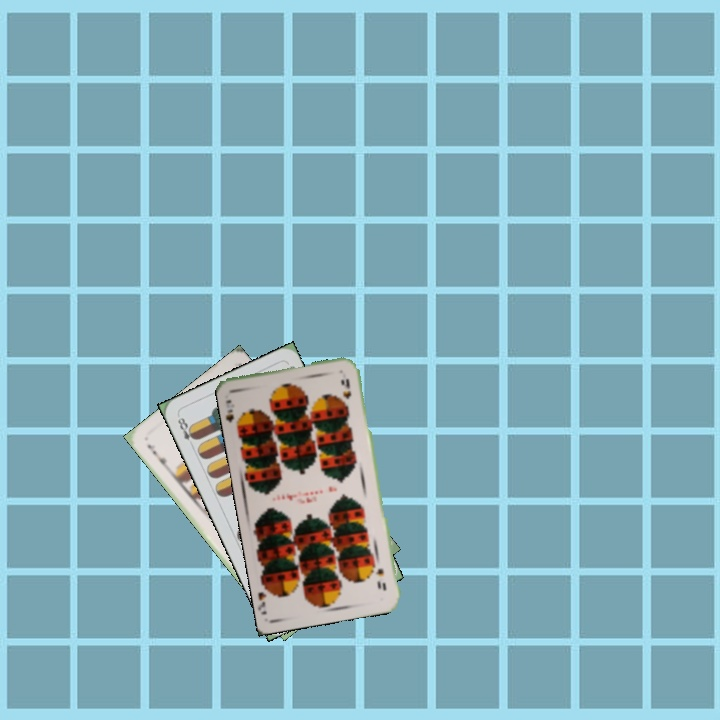E7: (143, 440, 172, 472)
E8: (174, 413, 199, 450)
S9: (222, 395, 245, 431), (373, 564, 388, 594)
